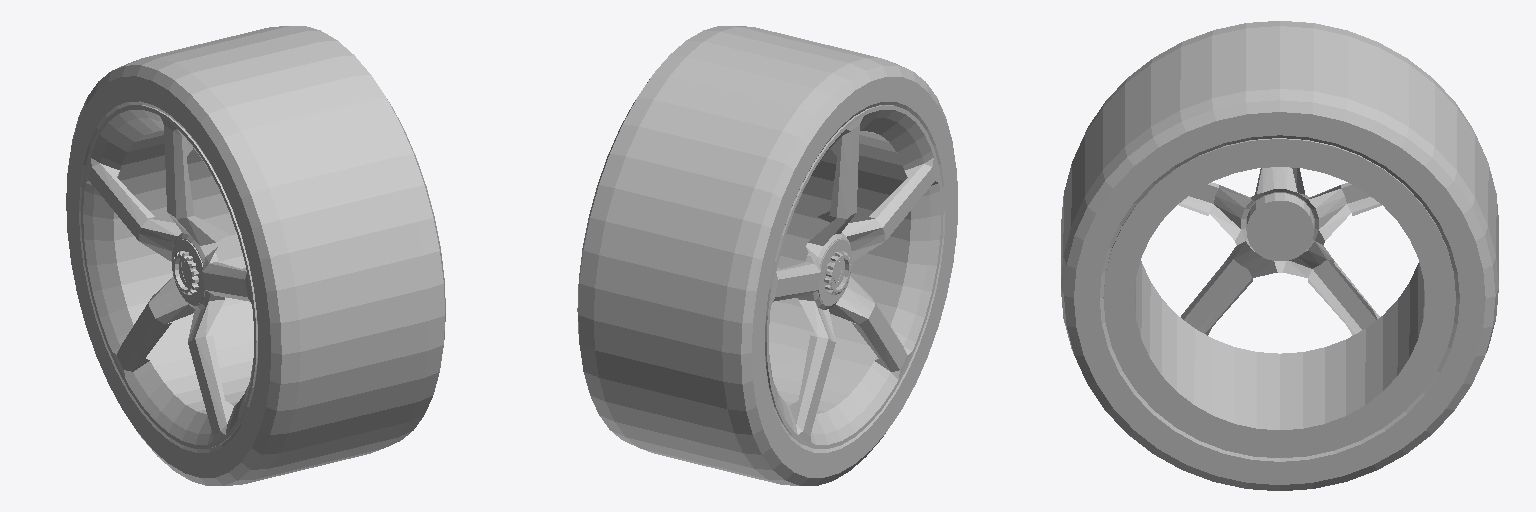
File: SV_tire_back_left.obj
3 views of the same model, side by side, from view 1: azimuth 30°, elevation 25°; view 2: azimuth 150°, elevation 25°; view 3: azimuth 270°, elevation 25° (orthographic).
Visible parts, largest first — view 1: tire_back; view 2: tire_back; view 3: tire_back.
Boxes of the visible parts, <box> form: tire_back: <box>66,26,445,485</box>; tire_back: <box>577,26,957,485</box>; tire_back: <box>1061,21,1498,490</box>.
Bounding box in the file's own units: 0.3217 × 0.6961 × 0.6966.